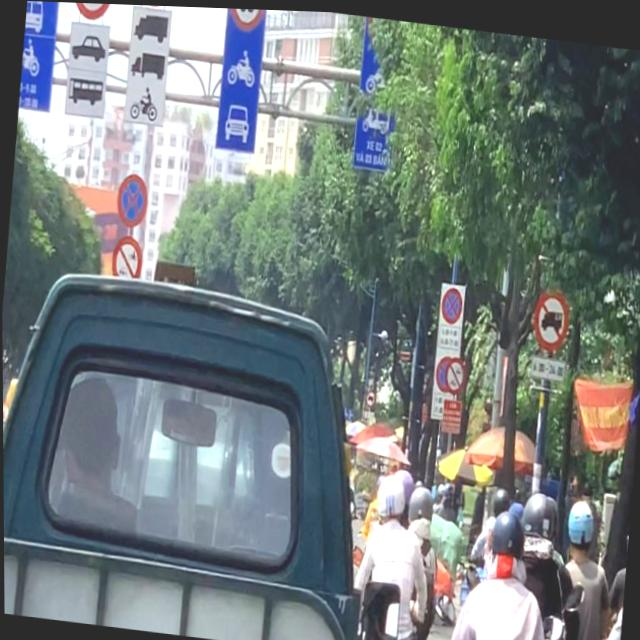Cam dung xe va do xe: (112, 168, 151, 230), (438, 281, 465, 324)
Cam xe tai tren 2_5: (531, 282, 570, 345)
